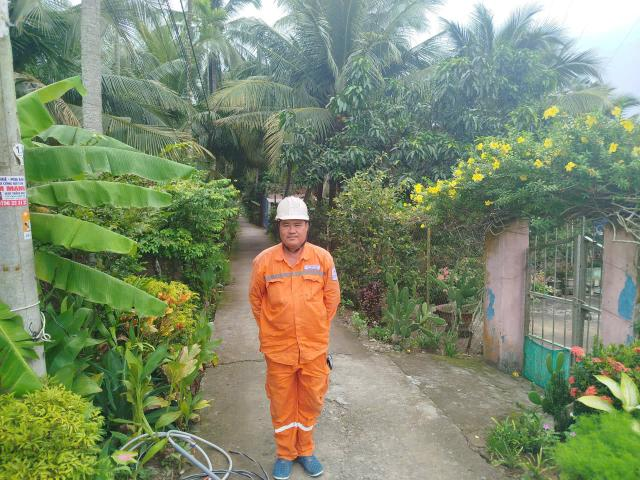helmet: (264, 194, 318, 226)
shoes: (268, 448, 297, 480), (299, 451, 334, 477)
